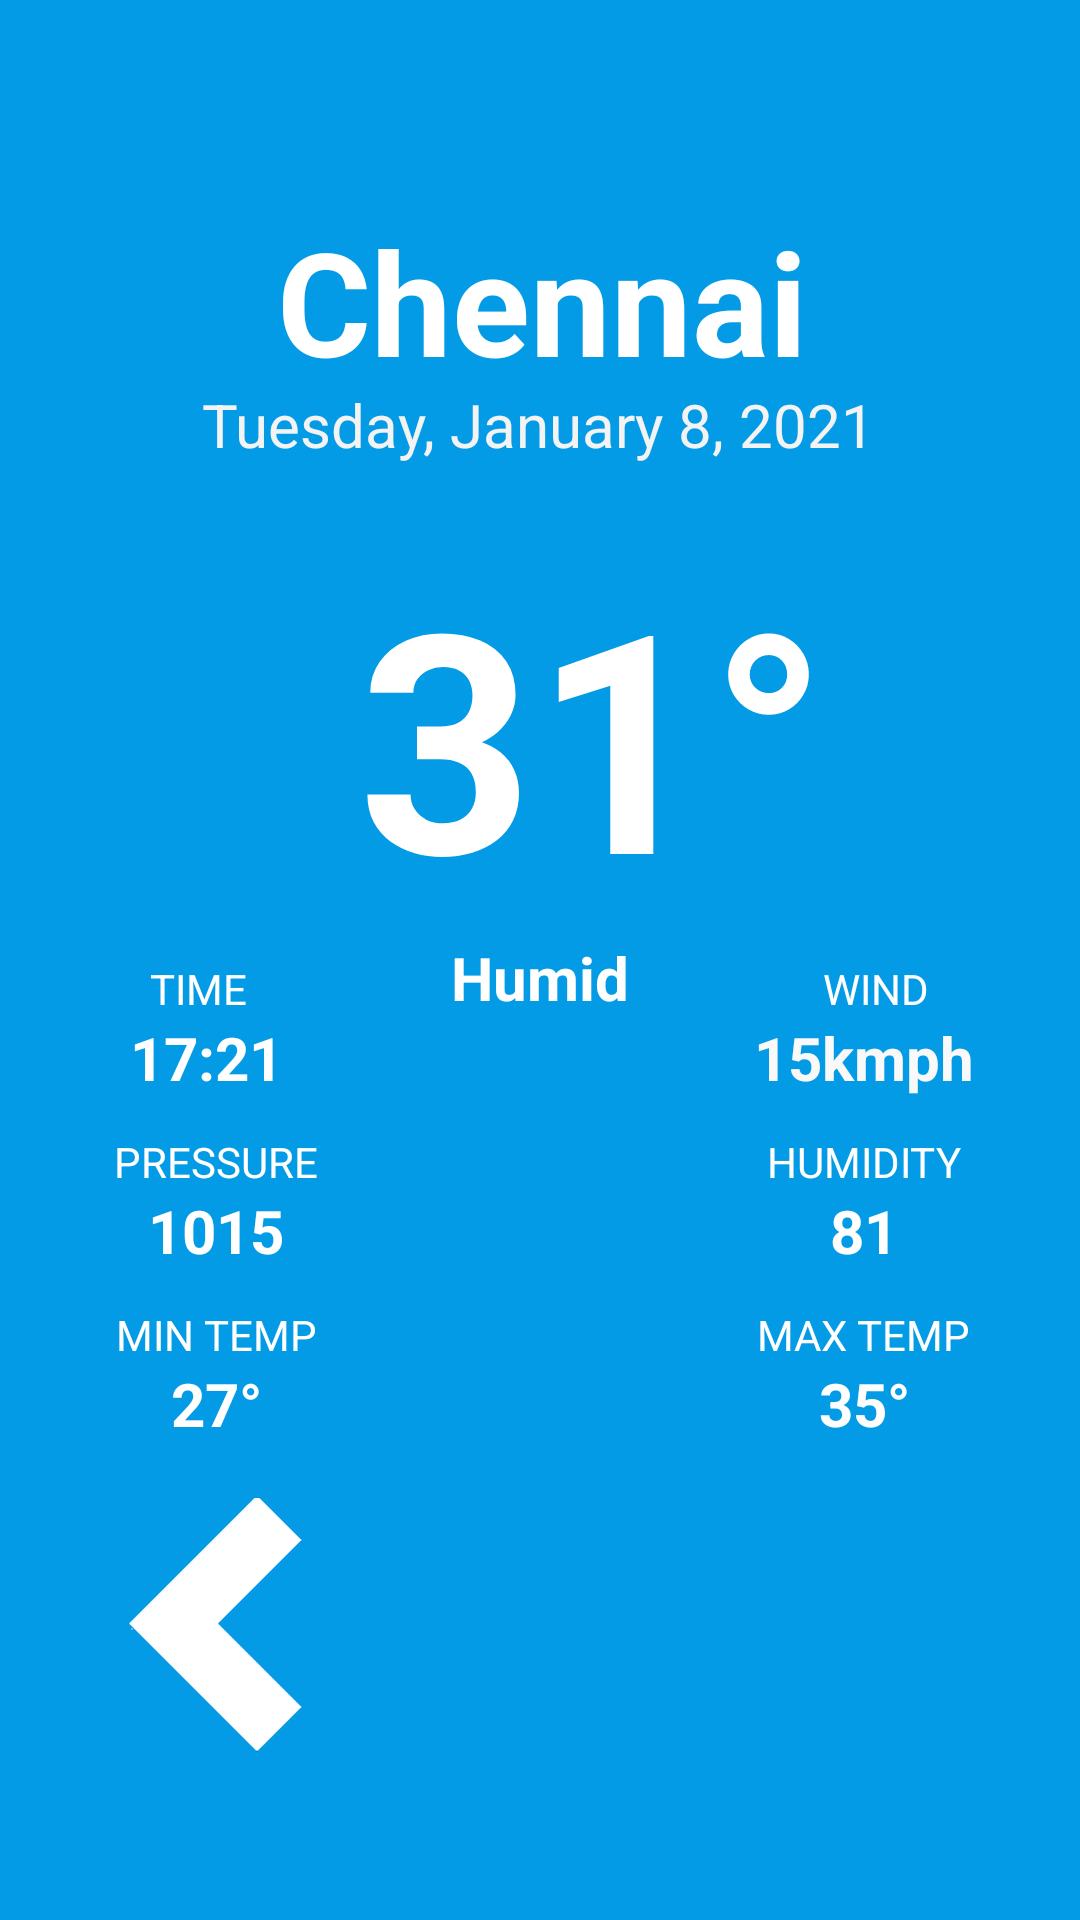

Icons on this 1080w x 1920h Android screen, each with the point to tap as (x,y):
leftarroww: (215,1624)
